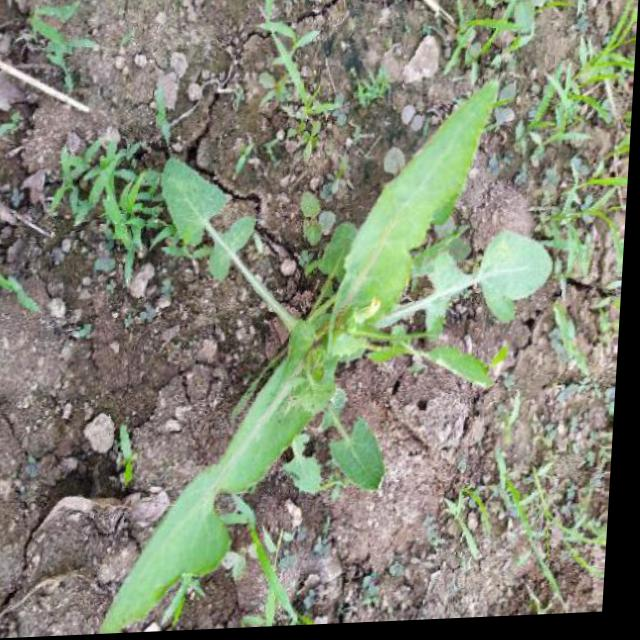weed: (52, 49, 607, 597)
